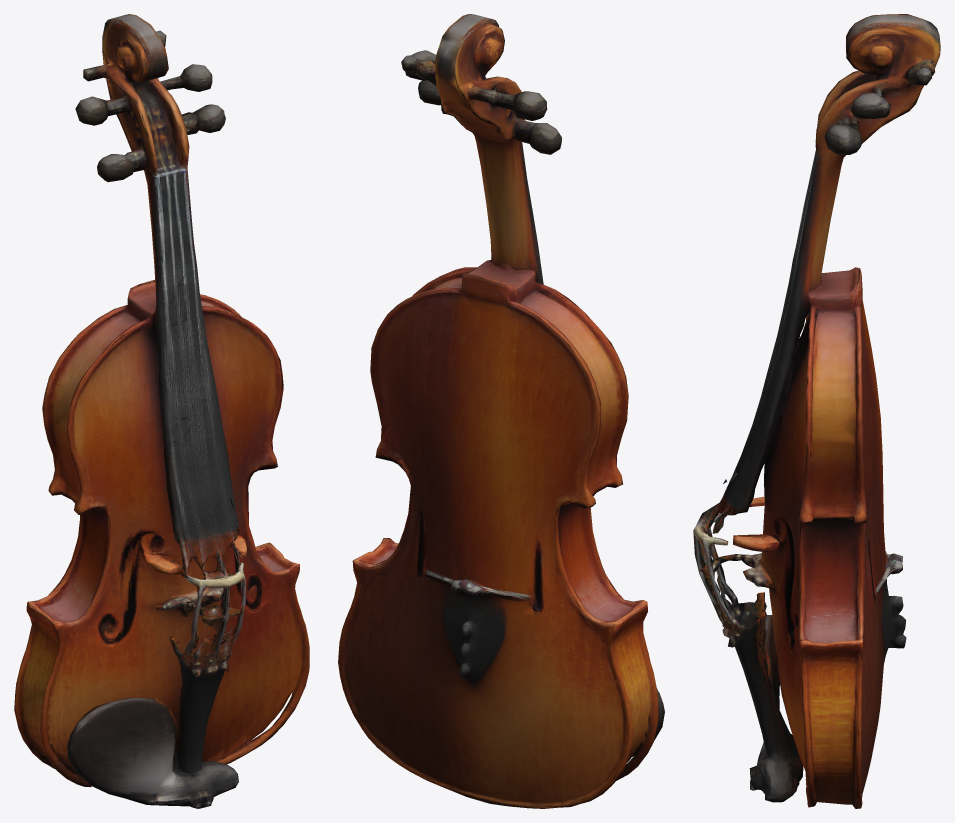
The model's file is violin.glb.
3 renders of one model, left to right at view 1: azimuth 30°, elevation 25°; view 2: azimuth 150°, elevation 25°; view 3: azimuth 270°, elevation 25°, orthographic. The views are drawn at different scales.
Visible parts, largest first — view 1: world; view 2: world; view 3: world.
Boxes of the visible parts, box(x1,y1,x2,y2) form: world: box(14, 14, 309, 808); world: box(338, 14, 664, 808); world: box(693, 14, 940, 808).
Bounding box in the file's own units: 0.3874 × 1 × 0.2923.
Materials: 1 (1 with a texture image).
